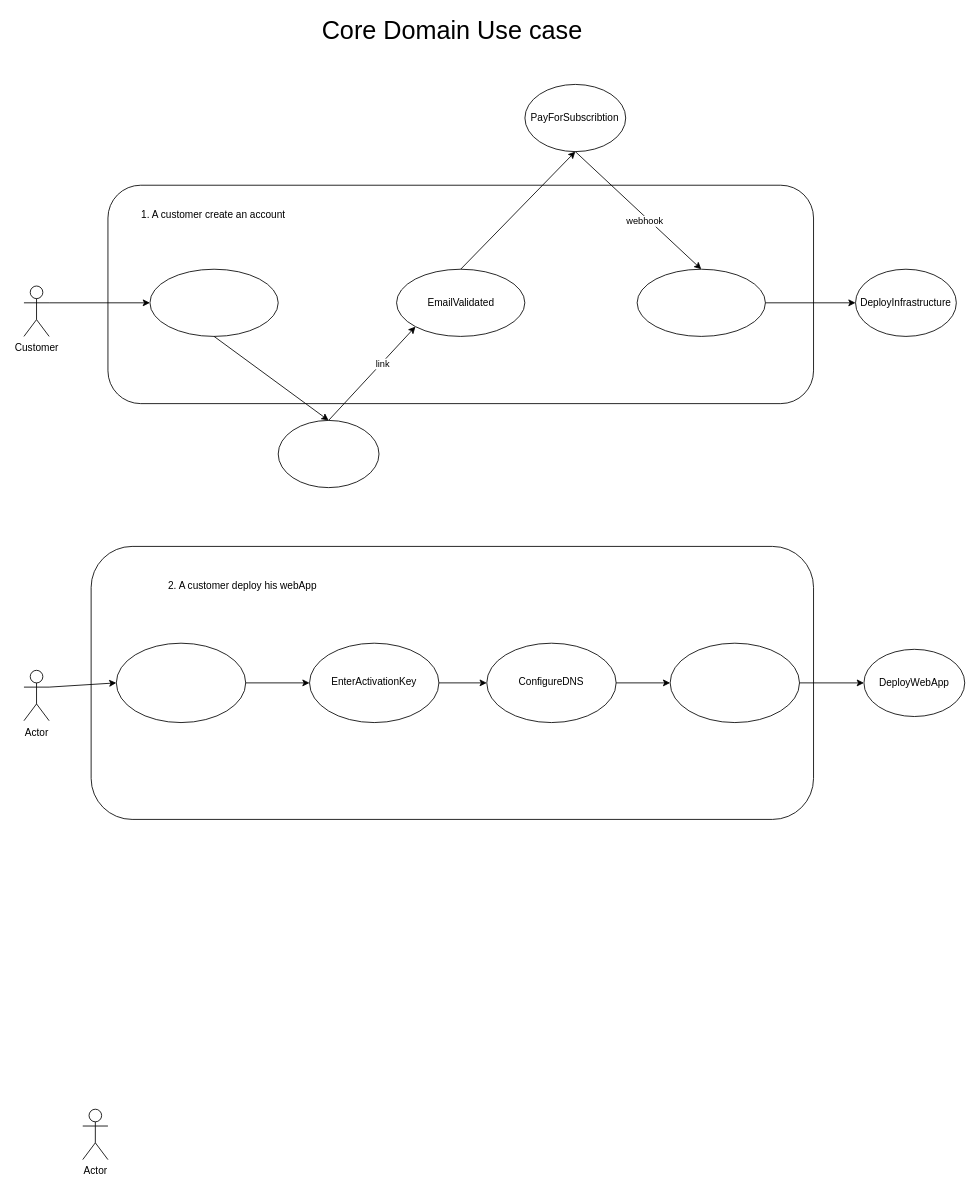
Image size: 979x1191. Some labels were removed from this diagram. Here are the shapes that lost their labels. From the top down, the box of each, then its label:
(149, 268, 278, 336): CreateAccountInfo
(636, 268, 765, 336): CreateVPC
(277, 420, 379, 488): EmailValidation
(116, 642, 246, 723): Donwload app
(669, 642, 800, 723): ConfigureAds
